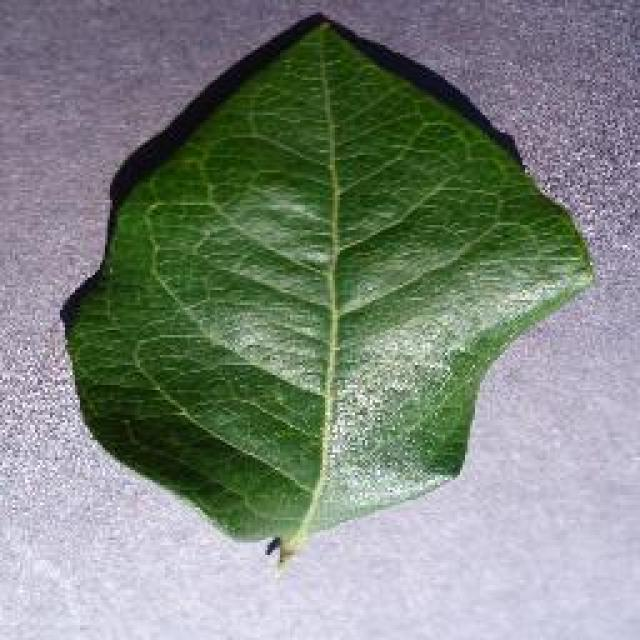Blu_healthy: (127, 78, 542, 492)
